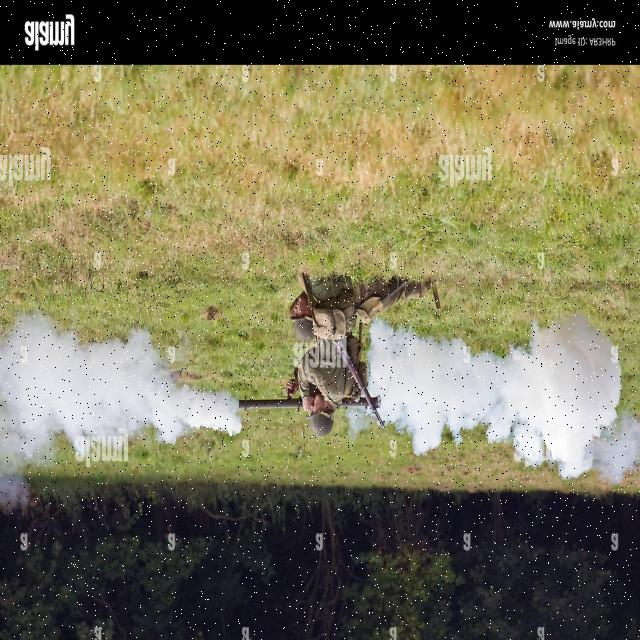bazooka: (234, 392, 389, 418)
